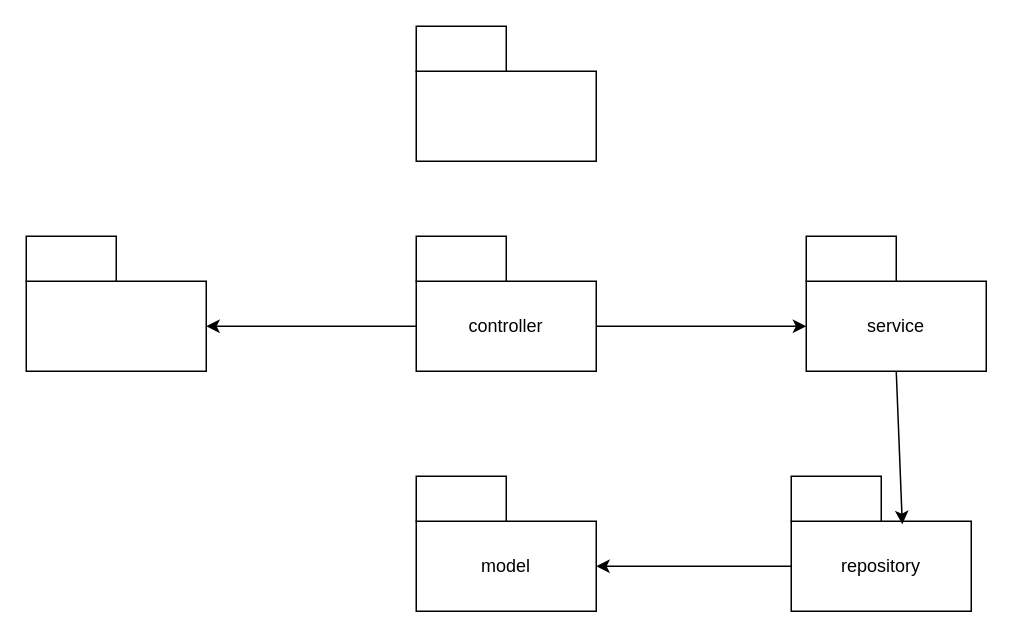
Some shapes in this 1013 by 638 pixel diagram are drawn without their labels. Here are the shapes that lost their labels. From the top down, the centre of each, then its label:
the point at 505,115: config
the point at 115,325: resource
